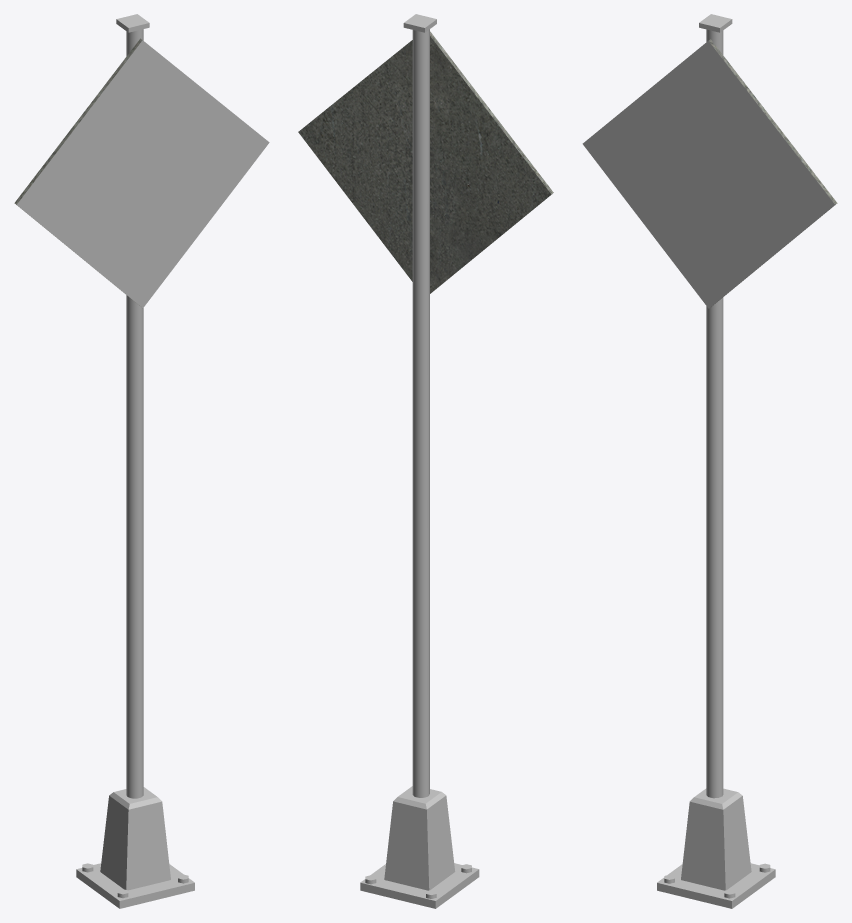
Rendered from DT_Sign_post_type0202.fbx.
The picture shows the model from 3 angles, left to right: view 1: azimuth 30°, elevation 25°; view 2: azimuth 150°, elevation 25°; view 3: azimuth 330°, elevation 25°; orthographic projection.
Visible parts, largest first — view 1: DT_Sign_post_type0202; view 2: DT_Sign_post_type0202; view 3: DT_Sign_post_type0202.
Part boxes in pixels (left/top/right/bottom): DT_Sign_post_type0202: left=14, top=14, right=269, bottom=908; DT_Sign_post_type0202: left=298, top=14, right=553, bottom=908; DT_Sign_post_type0202: left=582, top=14, right=837, bottom=908.
Size of the model in its own units: 80.94 by 264 by 24.11.
